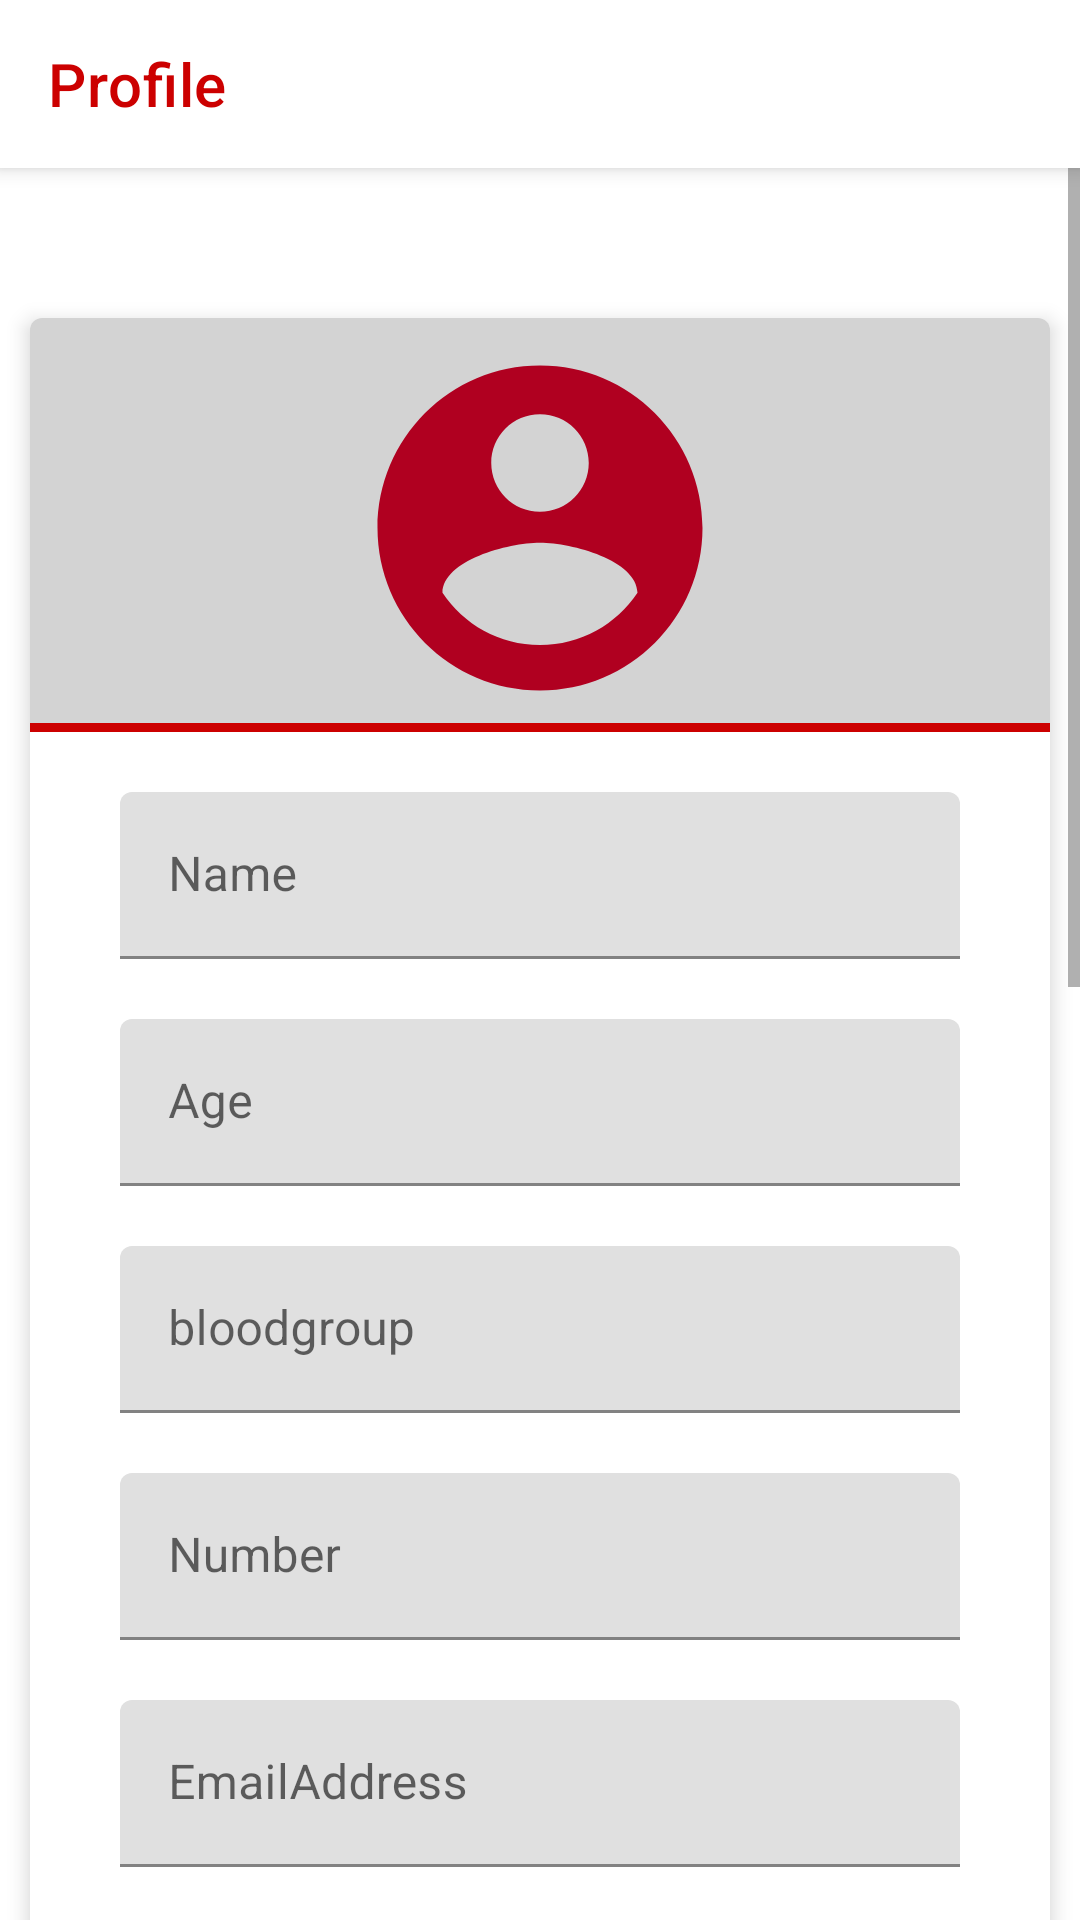

Icons on this 1080w x 1920h Android screen, each with its box as (x1, y1, x2, y2):
account circle: (377, 365, 703, 691)
